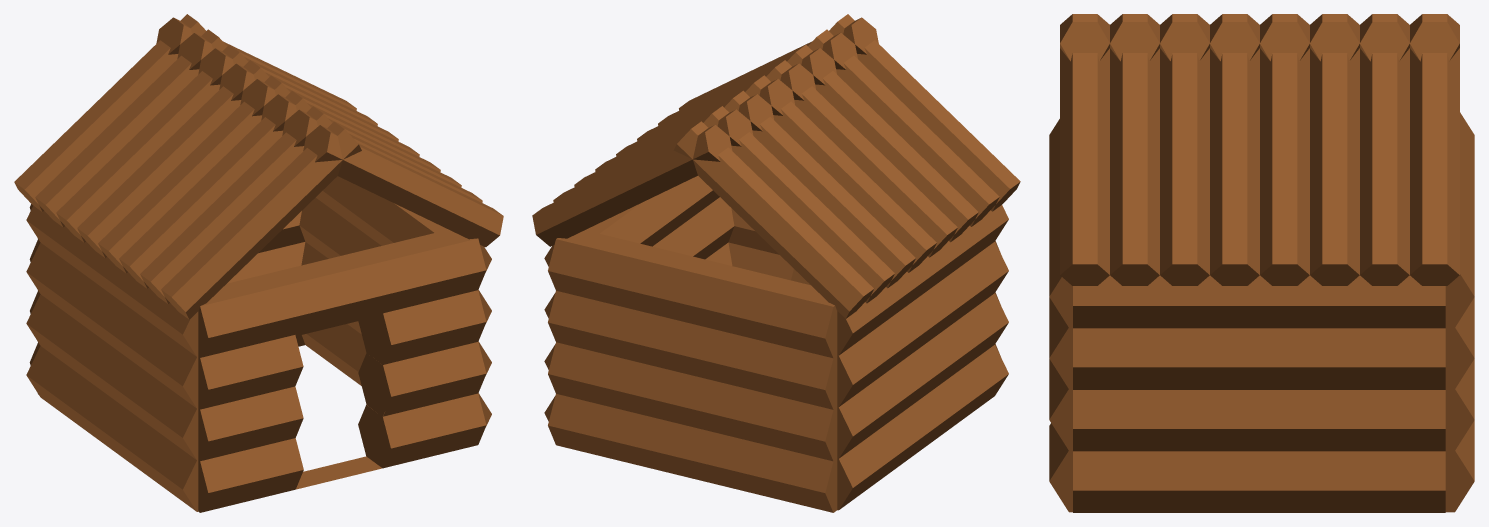
The model's file is WoodHut.fbx.
3 views of the same model, side by side, from view 1: azimuth 30°, elevation 25°; view 2: azimuth 150°, elevation 25°; view 3: azimuth 270°, elevation 25° (orthographic). The views are drawn at different scales.
Visible parts, largest first — view 1: Log; view 2: Log; view 3: Log.
Part boxes in pixels (x1,y1,x2,y2): Log: (14,14,503,512); Log: (532,14,1020,512); Log: (1049,14,1474,512).
Size of the model in its own units: 583 by 582 by 543.
